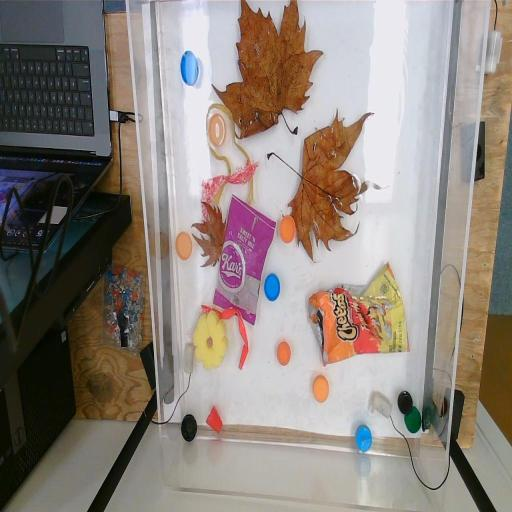Bottle Cap: (180, 50, 199, 86), (208, 113, 228, 146), (175, 230, 193, 260), (278, 214, 296, 244), (312, 374, 330, 402), (180, 413, 198, 441), (404, 406, 422, 434), (264, 272, 280, 302), (356, 424, 372, 454), (276, 340, 292, 366), (397, 390, 413, 414)
Cone Cap: (206, 405, 224, 434)
Leaf: (268, 106, 390, 264), (210, 0, 324, 136), (192, 200, 228, 268)
Netting: (200, 156, 260, 220)
Plastic Bag: (307, 265, 411, 365), (212, 192, 276, 326)
Plastic Strand: (205, 101, 256, 207), (200, 304, 250, 372)
Sponge: (192, 311, 228, 369)
